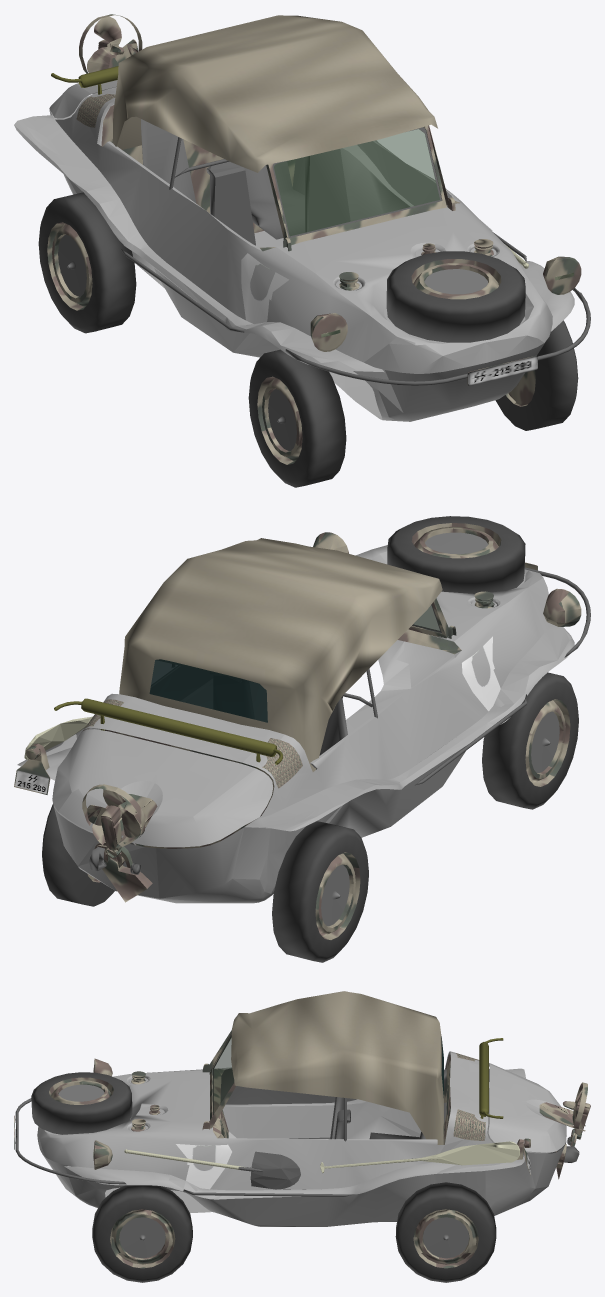
The model's file is Amfibia.obj.
3 views of the same model, one above another, from view 1: azimuth 30°, elevation 25°; view 2: azimuth 150°, elevation 25°; view 3: azimuth 270°, elevation 25° (orthographic). The views are drawn at different scales.
Parts seen in each view (by area): view 1: (null); view 2: (null); view 3: (null).
Part boxes in pixels (box(x1,y1,x2,y2)): (null): box(14, 14, 590, 487); (null): box(14, 516, 590, 962); (null): box(14, 991, 590, 1282).
Size of the model in its own units: 3729 by 3613 by 8683.
18 materials, 6 textured.
